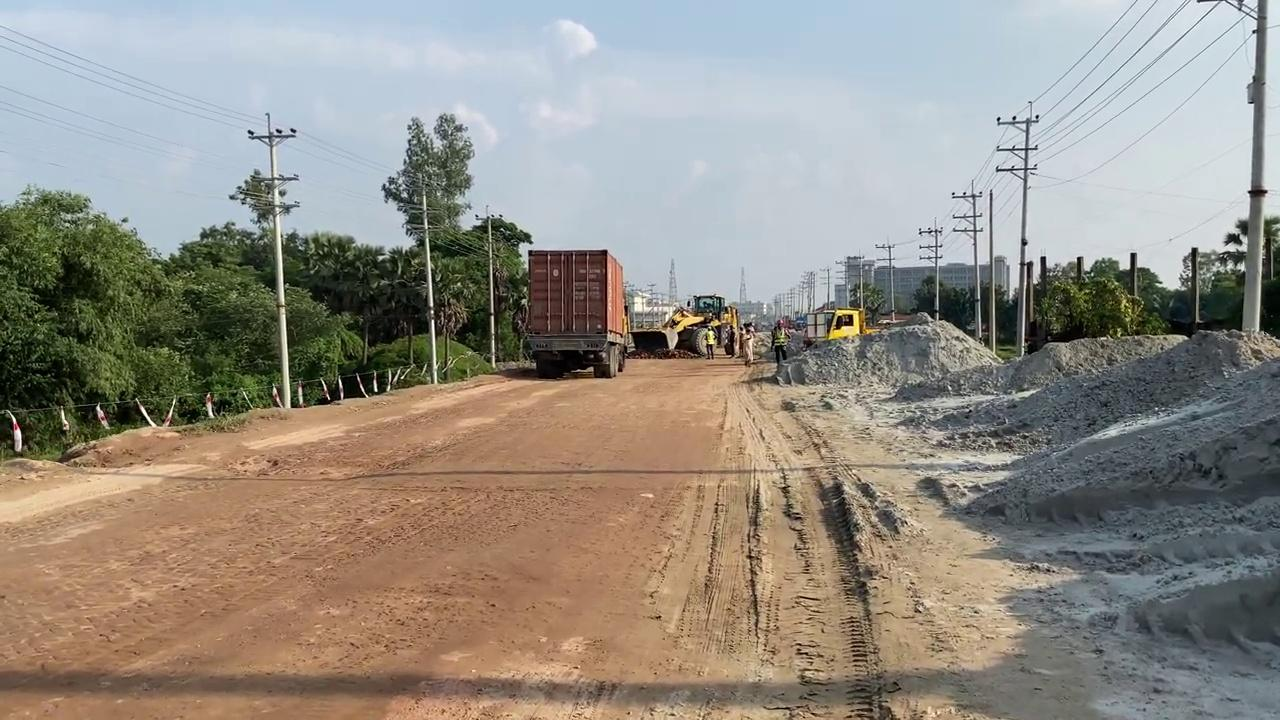Garbage: (793, 324, 1278, 720)
Light-pole: (246, 112, 300, 407)
Obstacle: (520, 247, 627, 378)
Pole: (1240, 0, 1268, 332), (420, 188, 439, 384)
Traffic-sign: (0, 182, 189, 447), (380, 111, 475, 383)
Tree: (519, 248, 742, 378), (626, 293, 742, 358), (799, 305, 882, 348)
